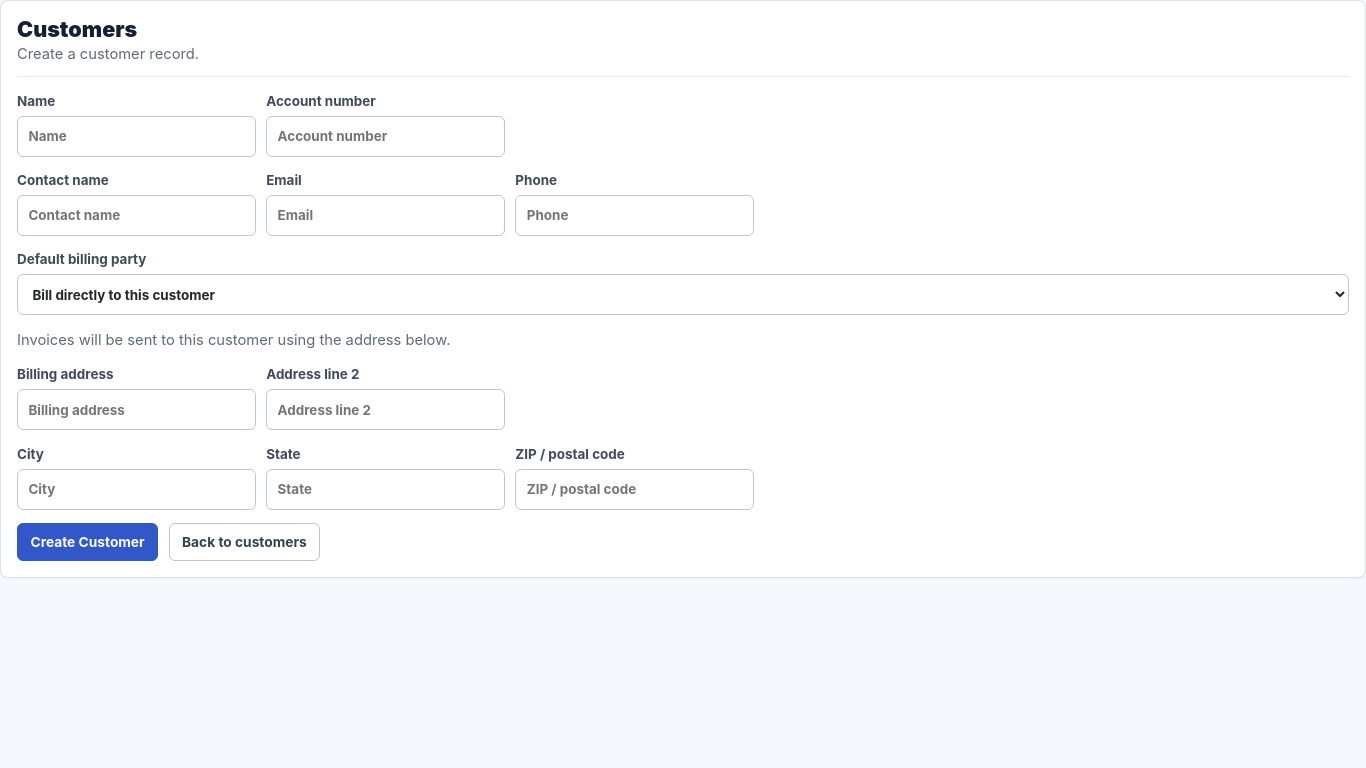
Test: CustomersPage › surfaces API validation errors when customer save fails
Type "Bad Customer" into the field with placeholder "Name" at [136, 136], box [17, 116, 256, 156]
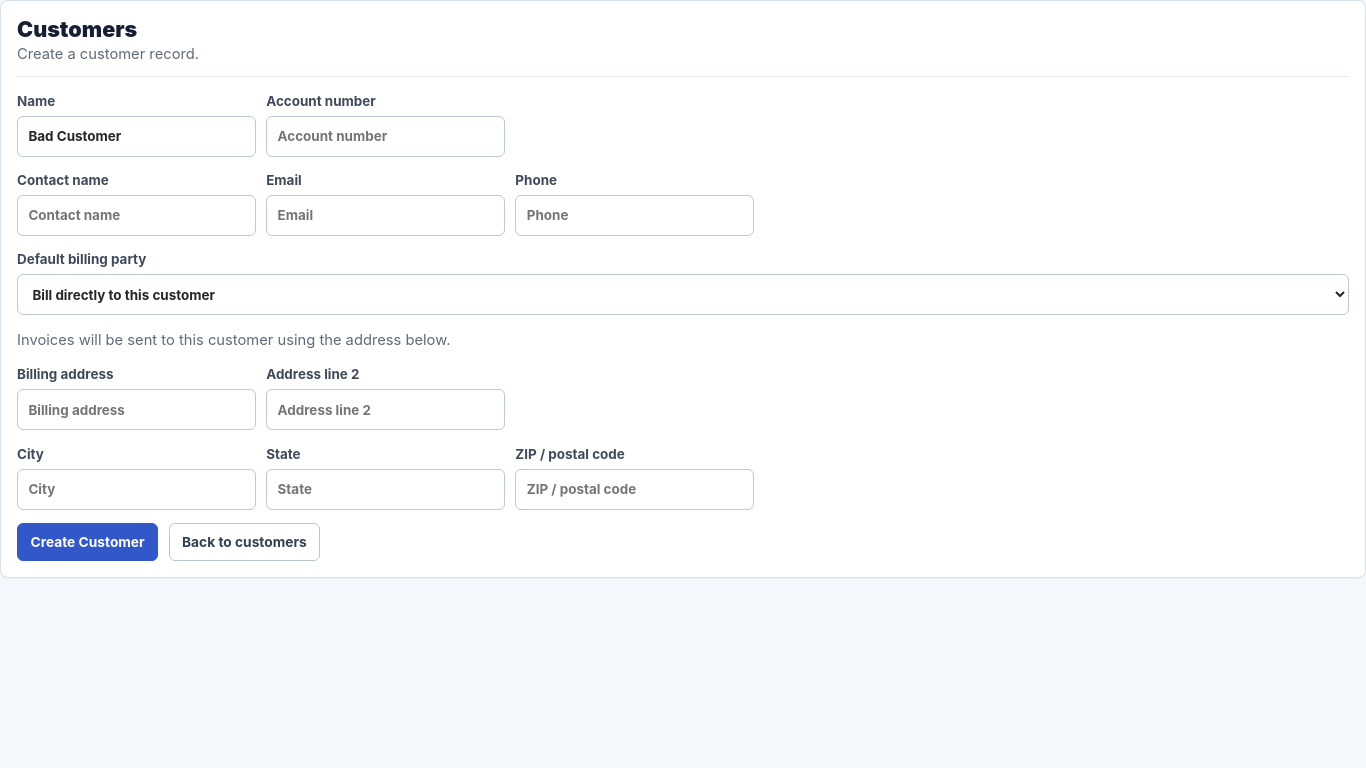
Click the button "Create Customer" at [88, 542], box [17, 523, 158, 561]
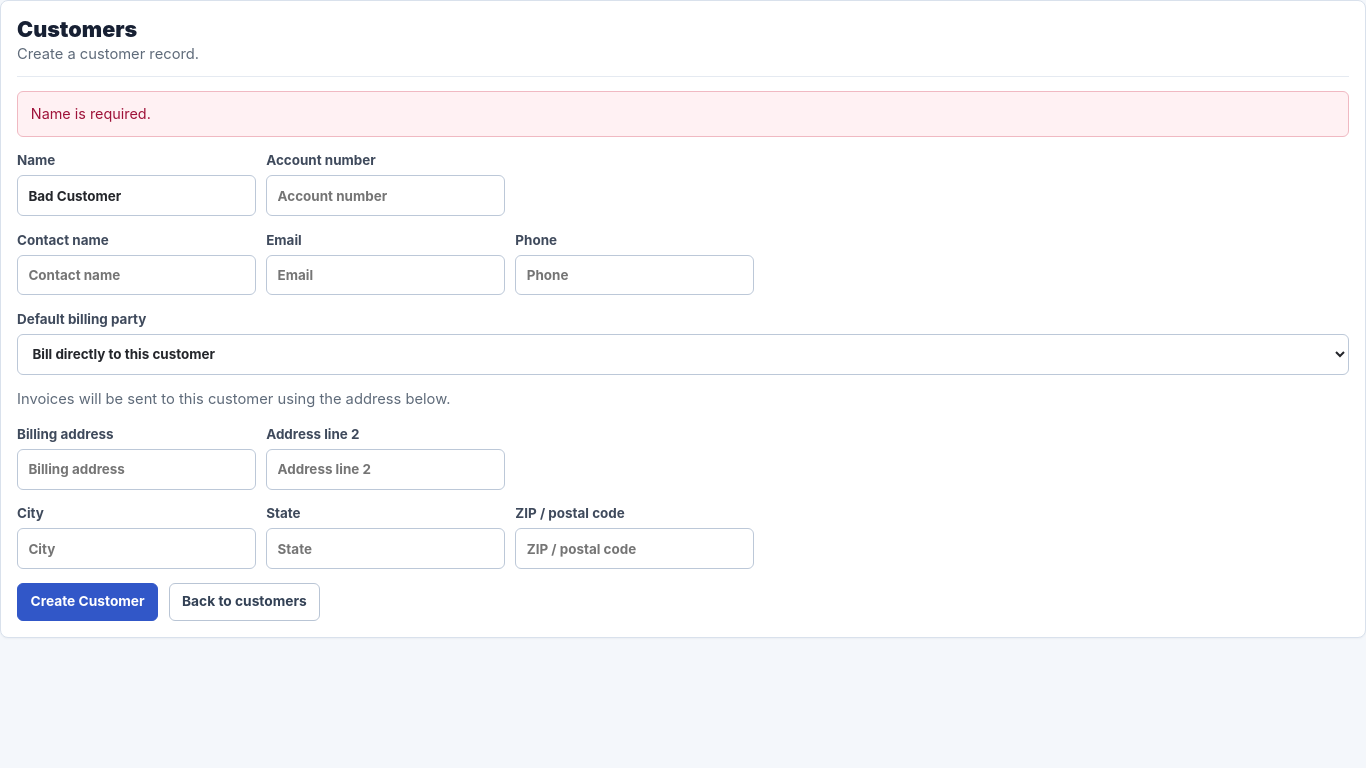
Result: the text "Name is required." is shown at [17, 91, 1349, 137]
